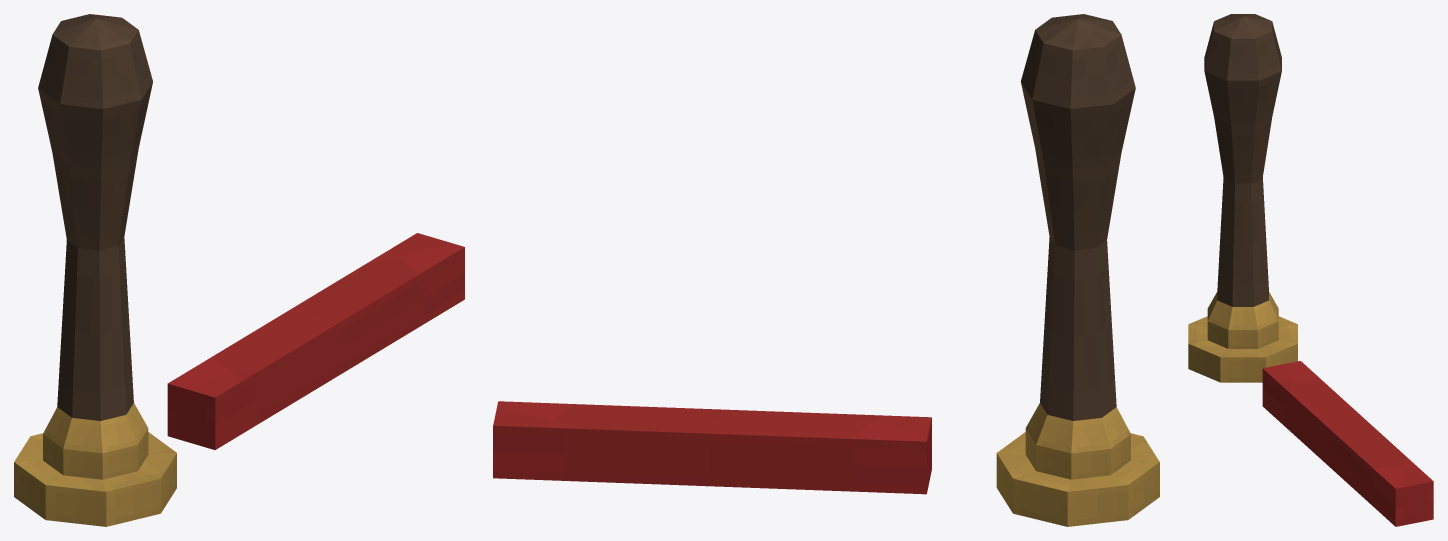
File: wax-seal-stamp.glb
3 views of the same model, side by side, from view 1: azimuth 30°, elevation 25°; view 2: azimuth 150°, elevation 25°; view 3: azimuth 270°, elevation 25° (orthographic). The views are drawn at different scales.
Visible parts, largest first — view 1: wax-seal-stamp.001; view 2: wax-seal-stamp.001; view 3: wax-seal-stamp.001.
Boxes of the visible parts, left/top/right/bottom form: wax-seal-stamp.001: left=14, top=14, right=464, bottom=526; wax-seal-stamp.001: left=493, top=14, right=1159, bottom=526; wax-seal-stamp.001: left=1188, top=14, right=1433, bottom=526.
Size of the model in its own units: 0.129 by 0.108 by 0.0702.
1 material, 1 textured.
